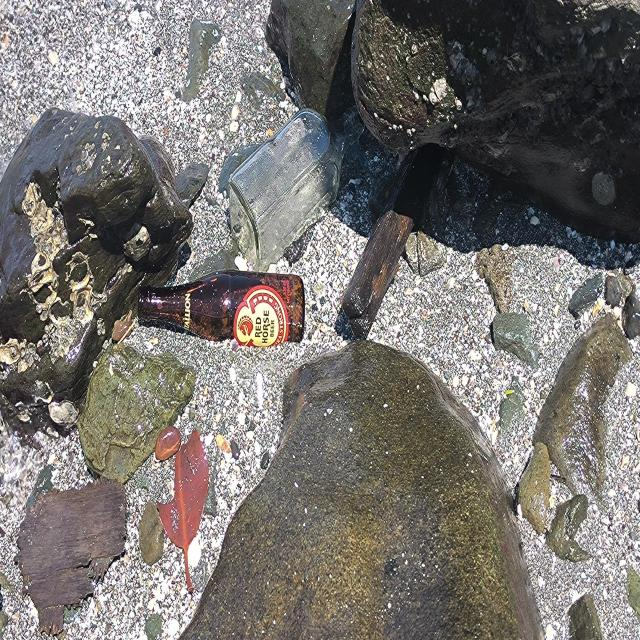glass_waste: (230, 106, 369, 272), (138, 272, 306, 346)
